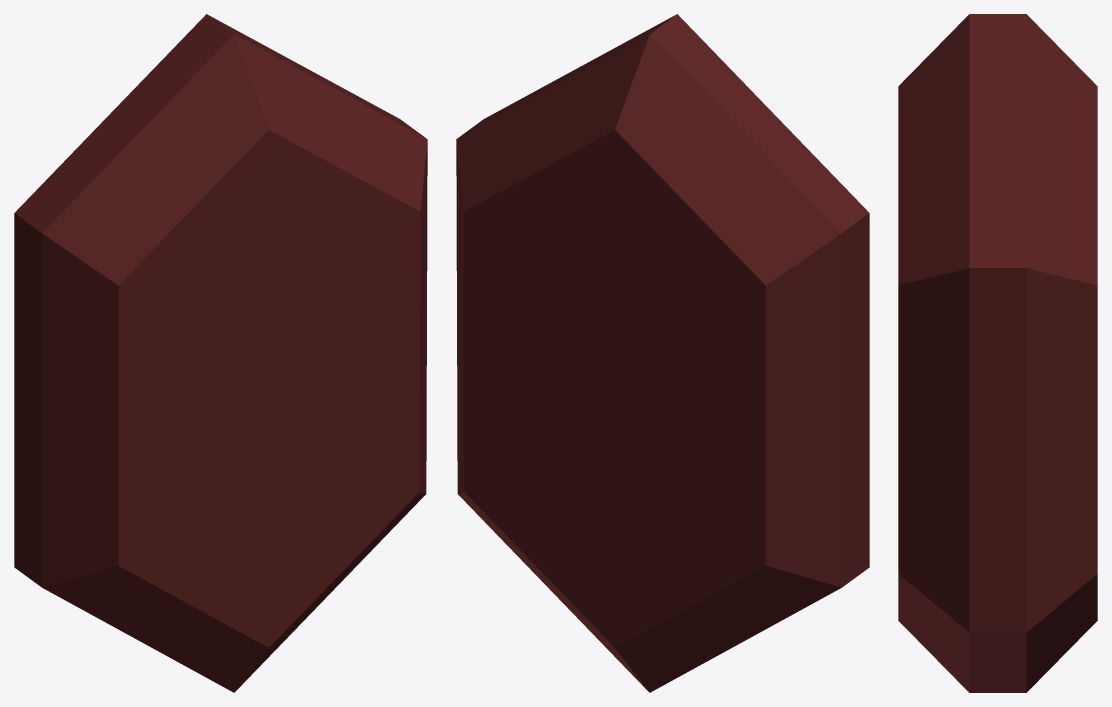
Rendered from jewel3.glb.
The picture shows the model from 3 angles, left to right: view 1: azimuth 30°, elevation 25°; view 2: azimuth 150°, elevation 25°; view 3: azimuth 270°, elevation 25°; orthographic projection. The views are drawn at different scales.
Visible parts, largest first — view 1: SM_Prop_Jewel_03; view 2: SM_Prop_Jewel_03; view 3: SM_Prop_Jewel_03.
Part boxes in pixels (bbox=[...]): SM_Prop_Jewel_03: bbox=[14, 14, 427, 692]; SM_Prop_Jewel_03: bbox=[456, 14, 869, 692]; SM_Prop_Jewel_03: bbox=[898, 14, 1097, 692].
Size of the model in its own units: 0.000769 by 0.00126 by 0.000335.
1 material, 1 textured.
